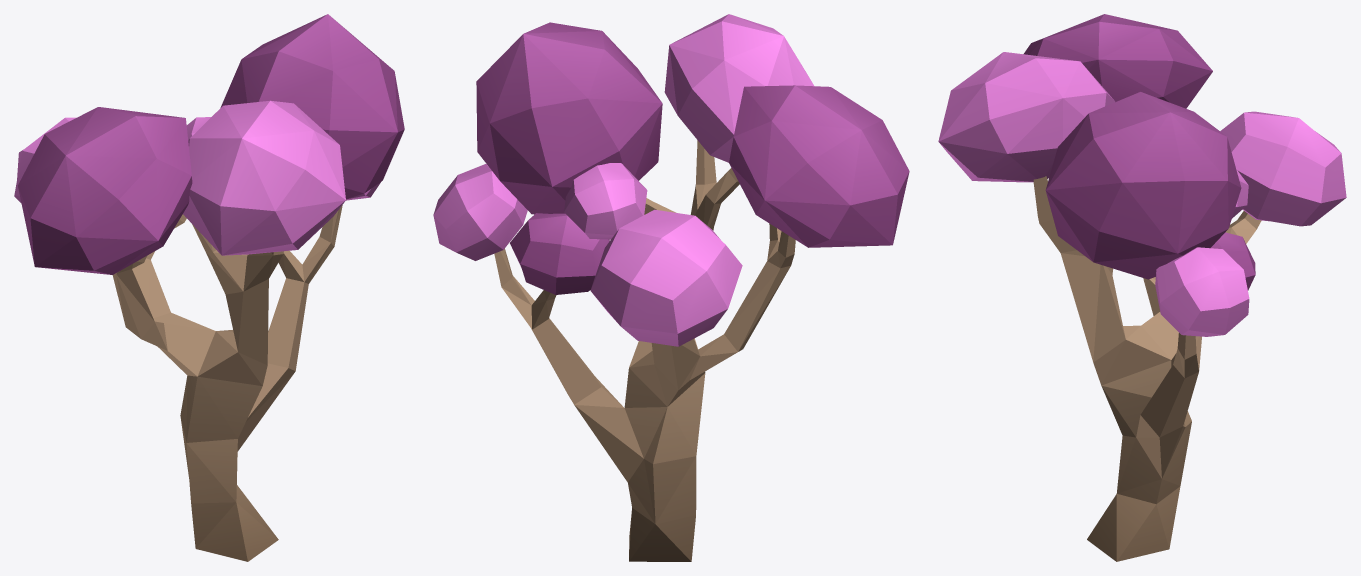
Rendered from SpringTree3.fbx.
3 views of the same model, side by side, from view 1: azimuth 30°, elevation 25°; view 2: azimuth 150°, elevation 25°; view 3: azimuth 270°, elevation 25° (orthographic). The views are drawn at different scales.
Parts seen in each view (by area): view 1: SpringTree3; view 2: SpringTree3; view 3: SpringTree3.
Boxes of the visible parts, x1,y1,x2,y2 form: SpringTree3: (14, 14, 404, 561); SpringTree3: (433, 14, 909, 561); SpringTree3: (938, 14, 1346, 561).
Size of the model in its own units: 384 by 450 by 342.
